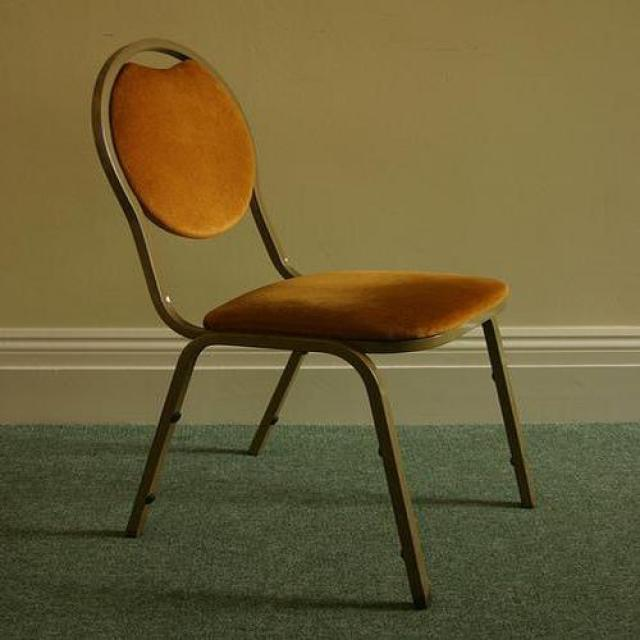chair: (91, 38, 535, 611)
